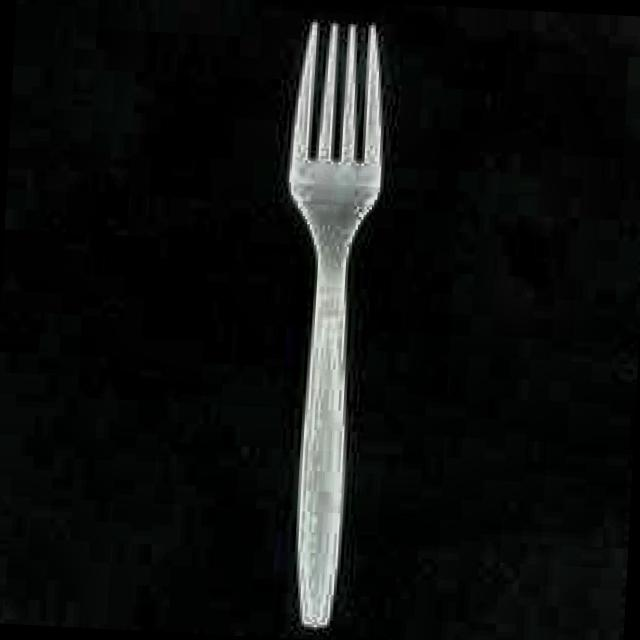plastic utensil: (263, 17, 392, 632)
